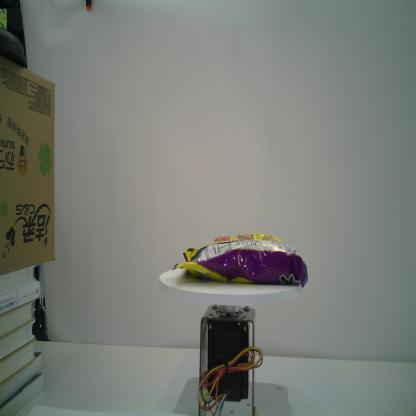Instant Noodles: (170, 230, 310, 289)
